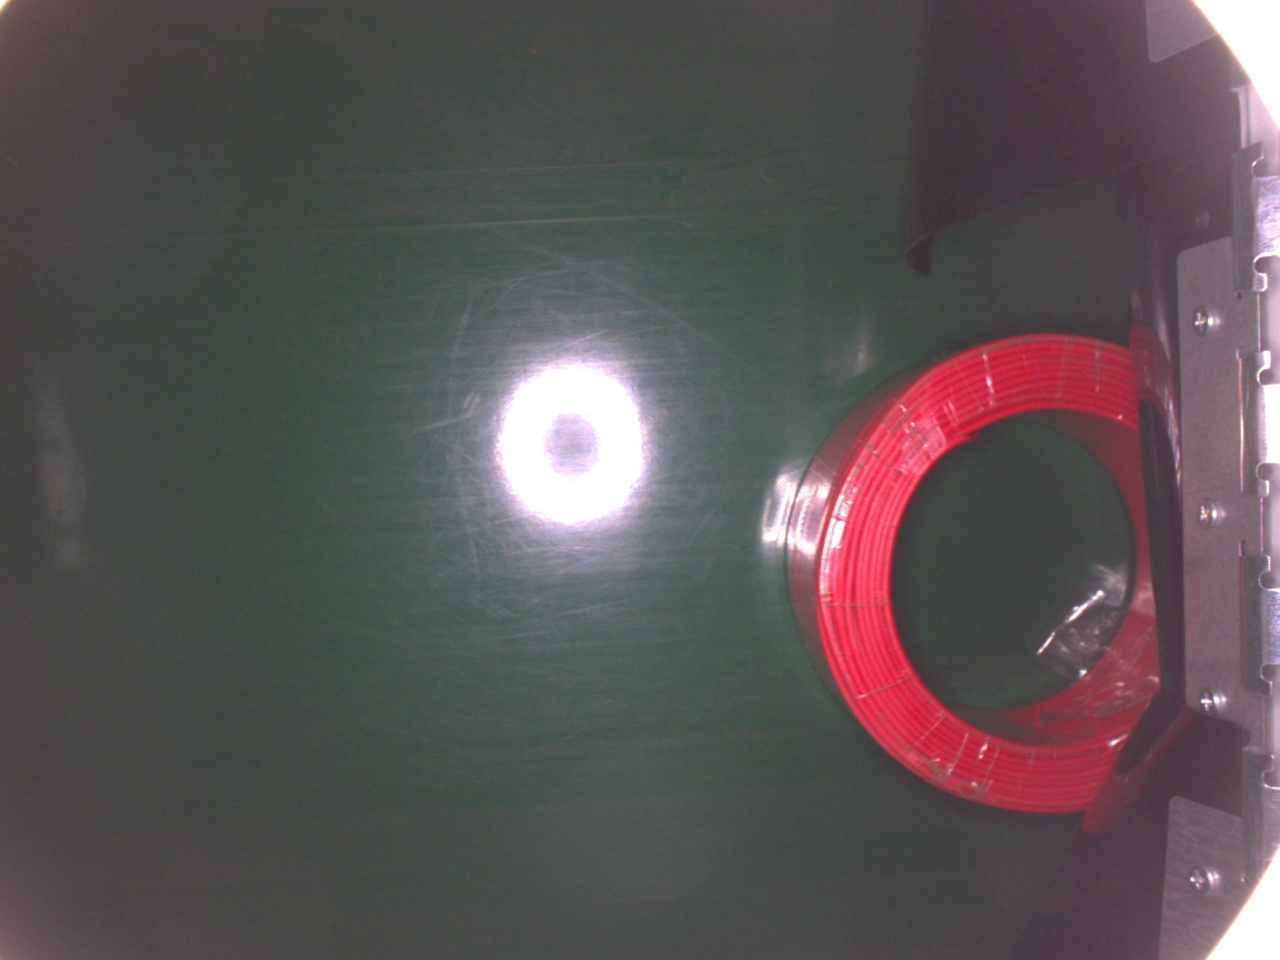red: (789, 328, 1156, 817)
